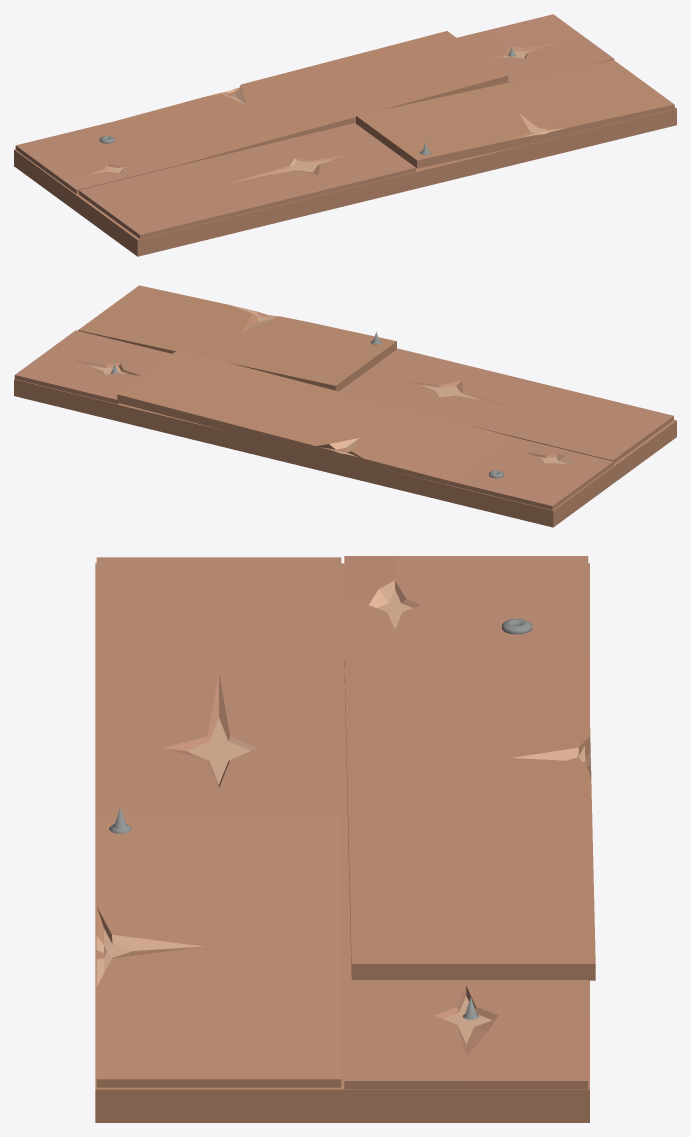
The model's file is SolSmall_01.fbx.
3 renders of one model, top to bottom at view 1: azimuth 30°, elevation 25°; view 2: azimuth 150°, elevation 25°; view 3: azimuth 270°, elevation 25°, orthographic. The views are drawn at different scales.
Visible parts, largest first — view 1: Cube.014; view 2: Cube.014; view 3: Cube.014.
Boxes of the visible parts, bbox=[...] form: Cube.014: bbox=[14, 14, 676, 256]; Cube.014: bbox=[14, 285, 676, 527]; Cube.014: bbox=[95, 556, 595, 1122].
Bounding box in the file's own units: 201 × 13.56 × 80.62.
